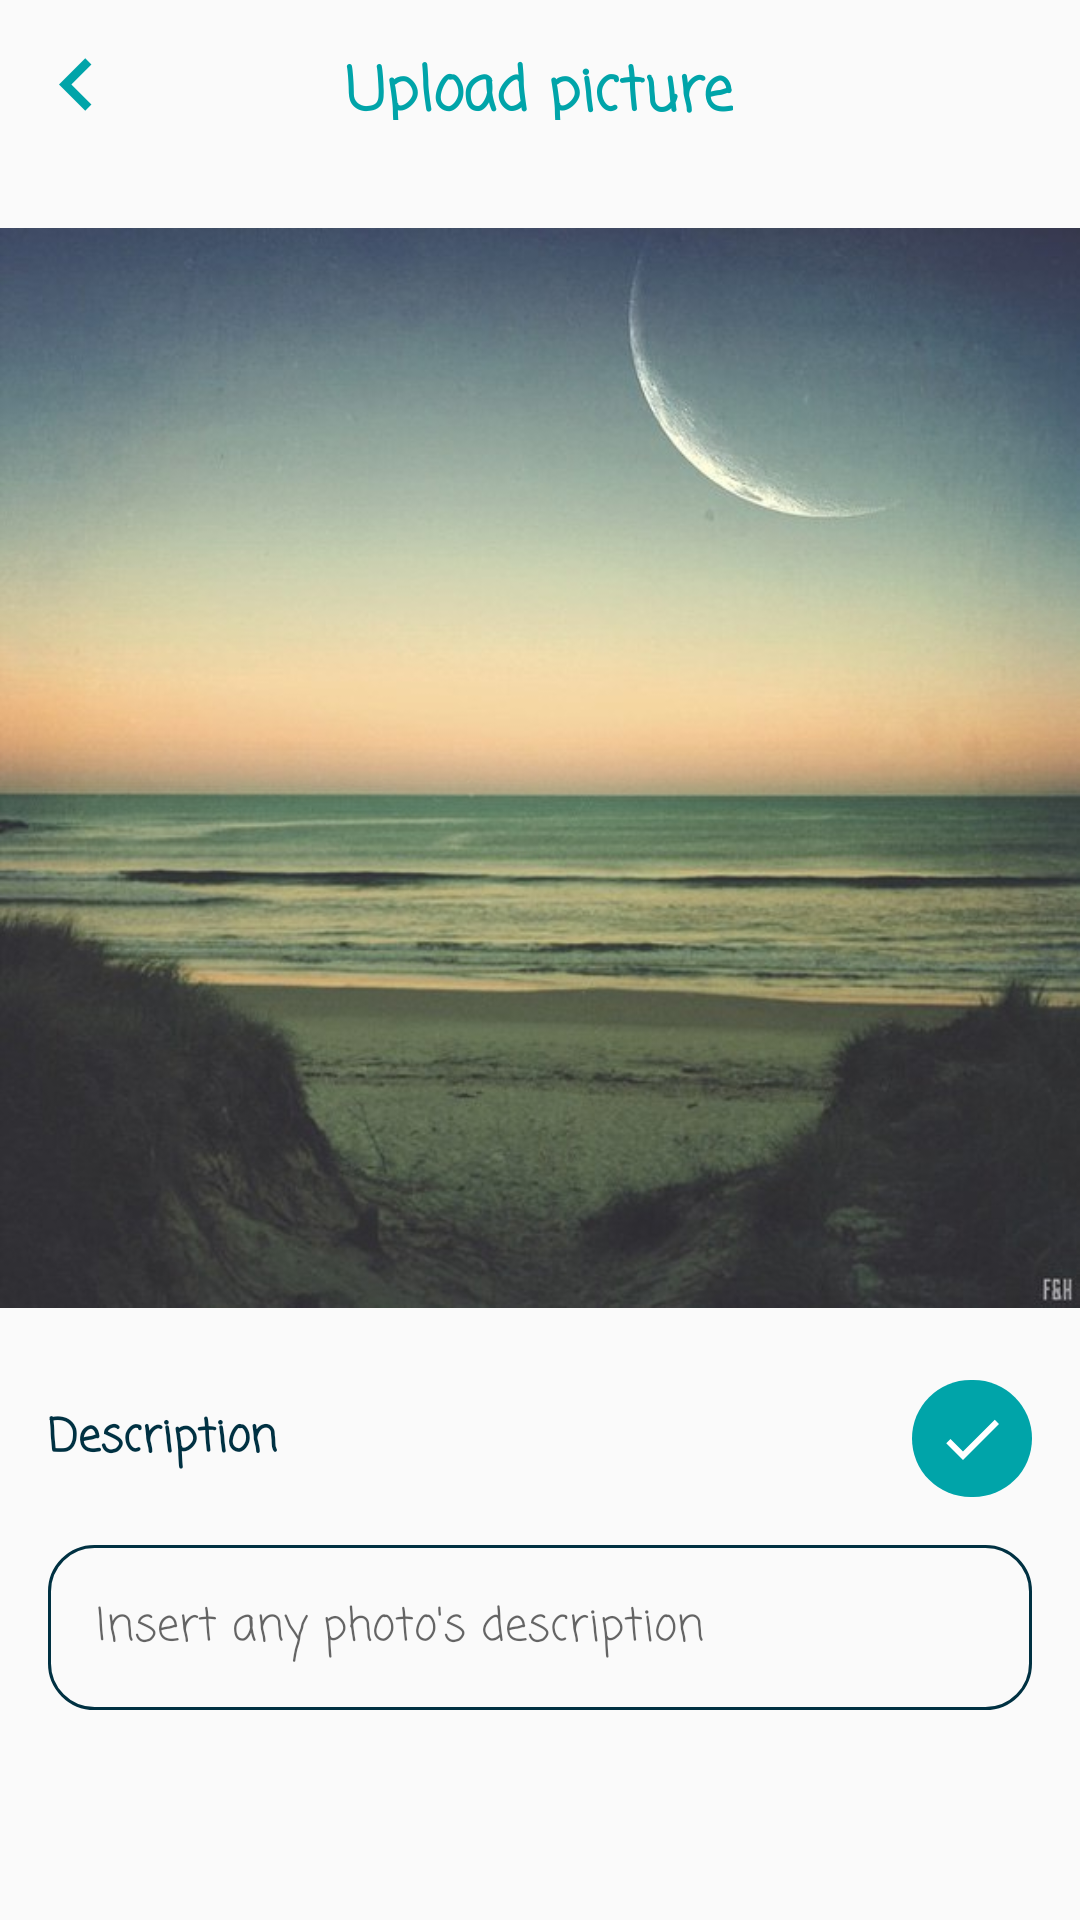

Named icons in this screenshot (1080×1920) and their centers, (x,y):
back: (75,84)
check upload: (972,1438)
